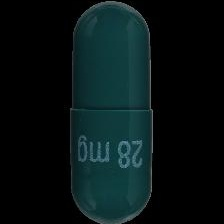0456-3428: (0, 0, 224, 224)
